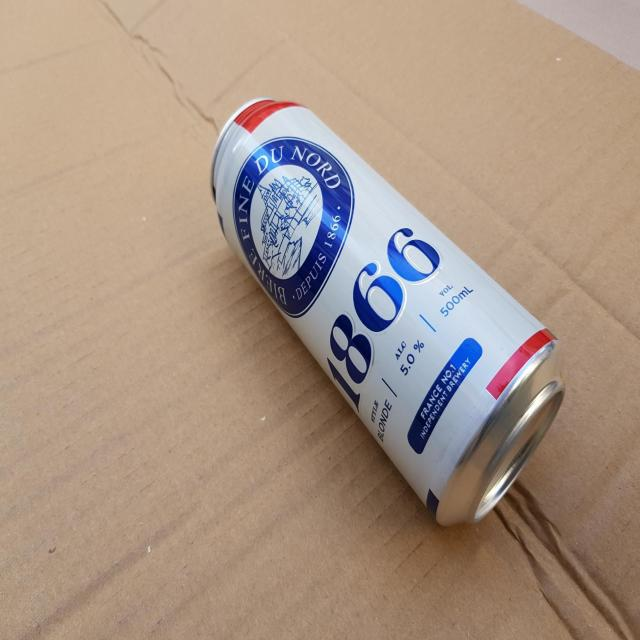can: (211, 97, 566, 526)
